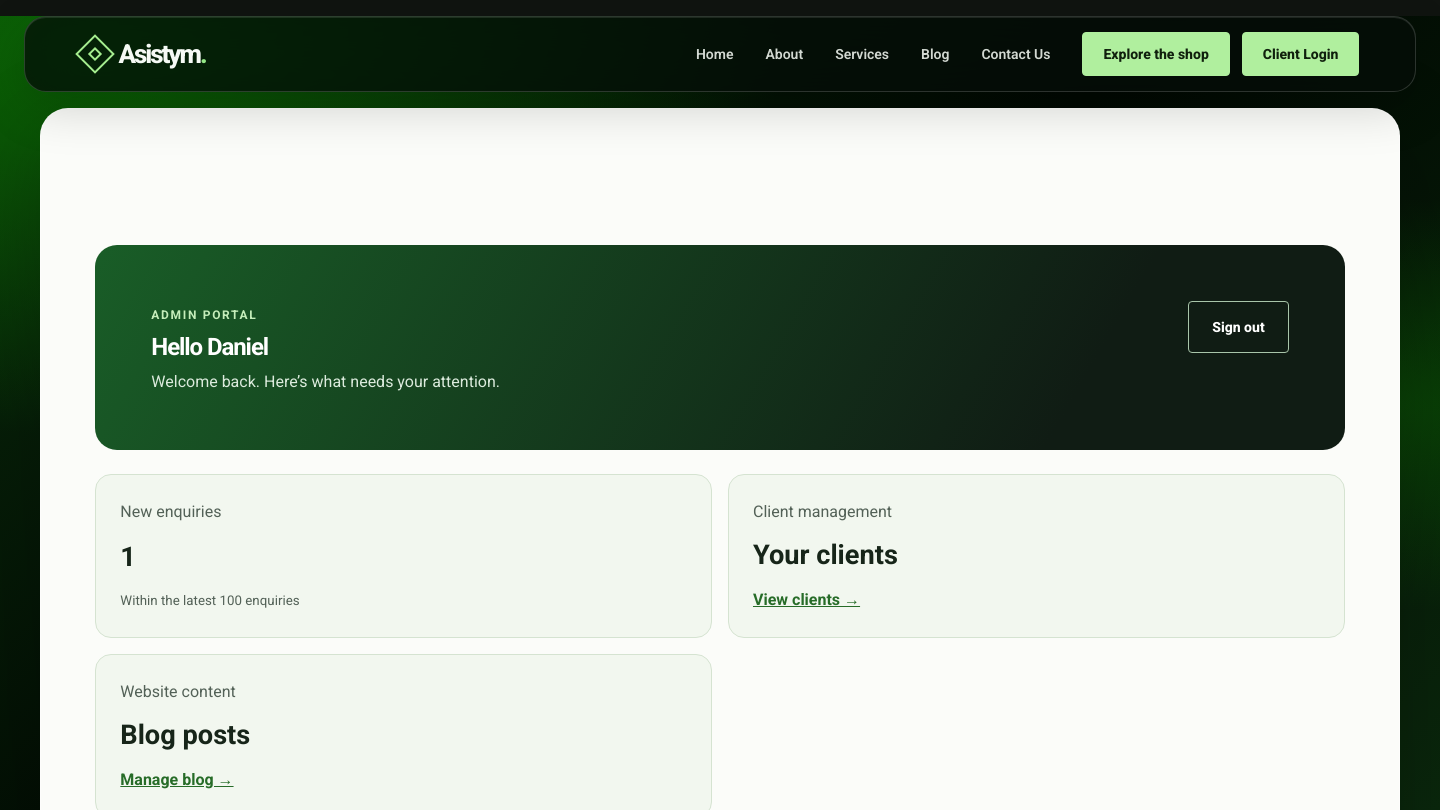
Test case: an administrator can see new enquiries and sign out
Expected: the heading "Hello Daniel" is shown, top-left (151, 333), bottom-right (268, 361)
Expected: the text "1" is shown, top-left (120, 541), bottom-right (136, 573)
Click the button "Sign out".
click(1238, 327)  # box top-left (1188, 301), bottom-right (1289, 353)
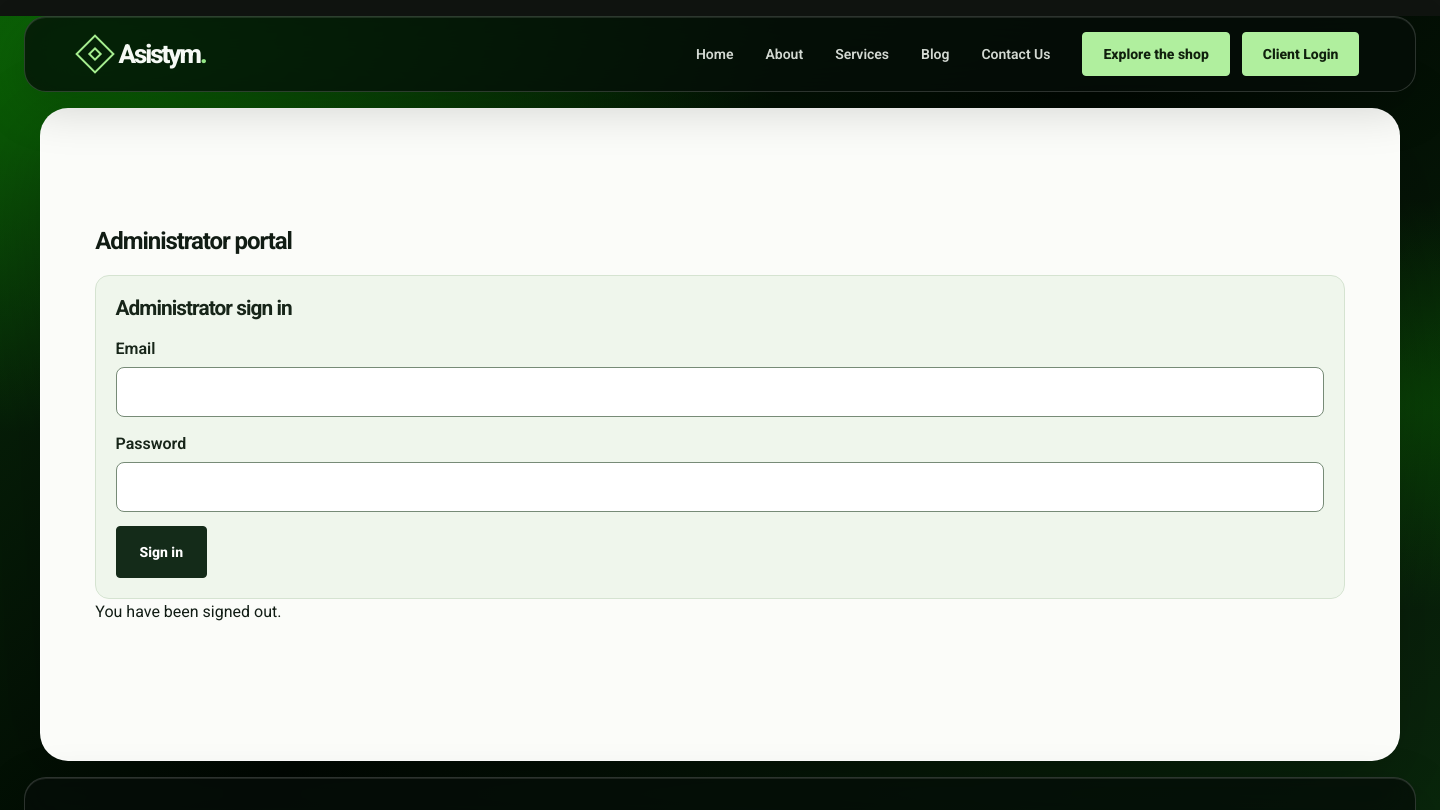
Now the heading "Administrator sign in" is shown, box top-left (116, 296), bottom-right (292, 320)
